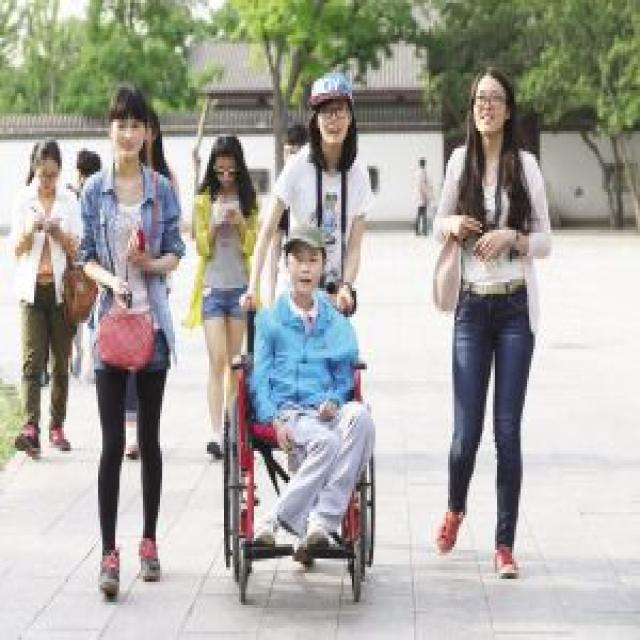wheelchairs: (199, 293, 380, 614)
